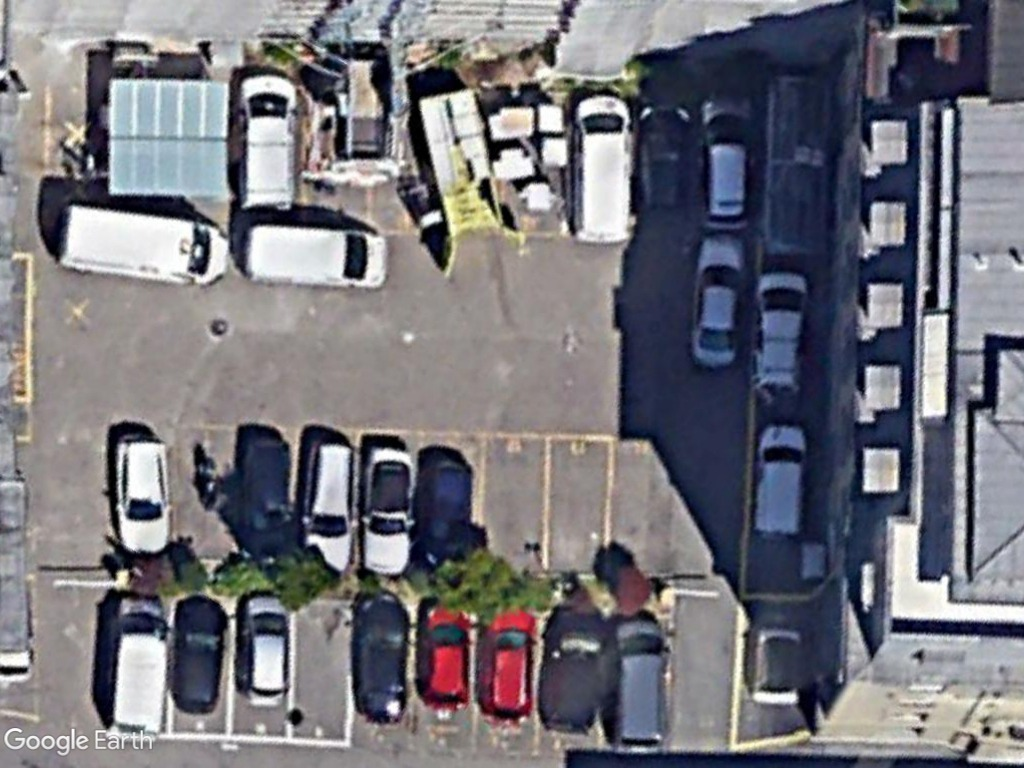car: (296, 436, 360, 574), (687, 231, 748, 373), (614, 614, 669, 758), (751, 265, 811, 397), (111, 431, 173, 557), (361, 443, 416, 577), (241, 592, 294, 711)
van: (53, 203, 235, 290), (568, 90, 638, 247), (240, 220, 391, 290), (104, 593, 172, 738), (236, 70, 298, 212), (753, 421, 810, 545)
